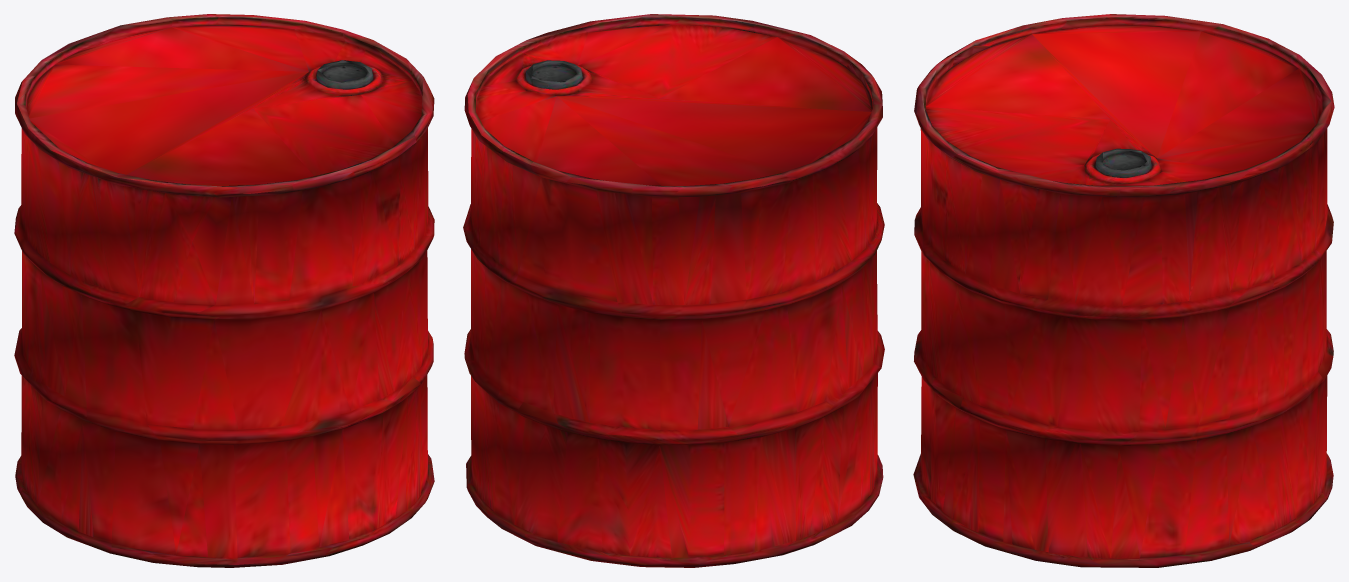
The model's file is tambor-DlW-KCBI.glb.
3 renders of one model, left to right at view 1: azimuth 30°, elevation 25°; view 2: azimuth 150°, elevation 25°; view 3: azimuth 270°, elevation 25°, orthographic.
Visible parts, largest first — view 1: objeto; view 2: objeto; view 3: objeto.
Part boxes in pixels (x1,y1,x2,y2): objeto: [14, 14, 434, 567]; objeto: [463, 14, 884, 567]; objeto: [913, 14, 1334, 567].
Size of the model in its own units: 1 by 0.9999 by 1.
1 material, 1 textured.
